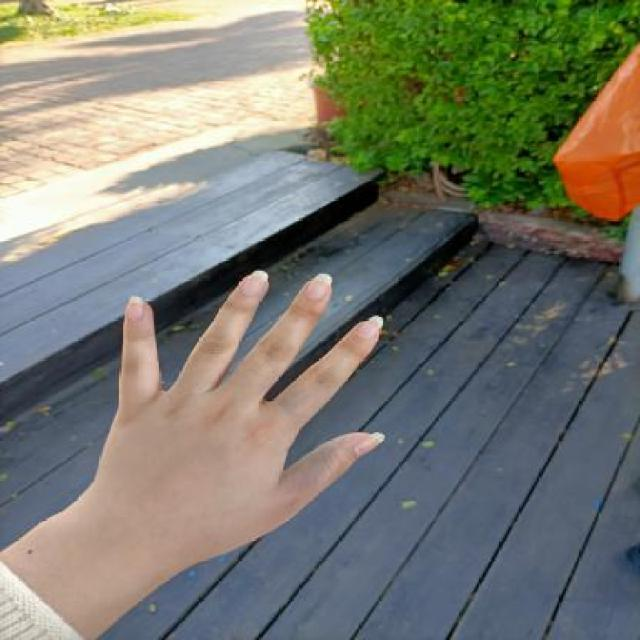bare_hand: (39, 254, 418, 574)
